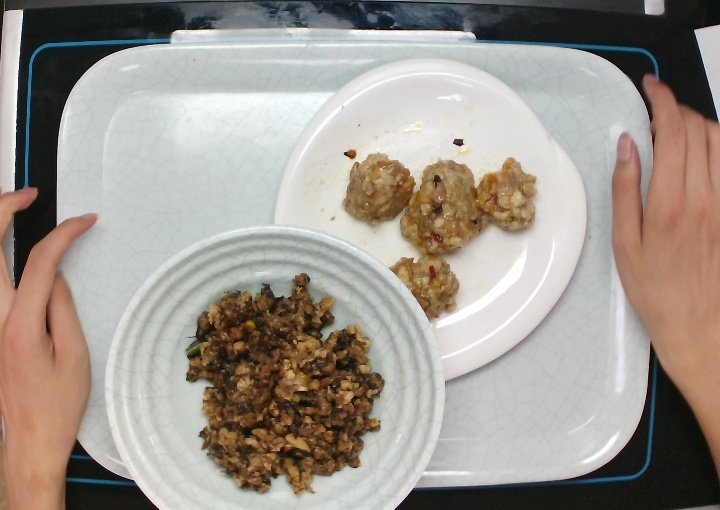JYsf-Da_Tang_Wan: (101, 222, 447, 510)
JYsf-Mian_Pan: (273, 55, 589, 383)
